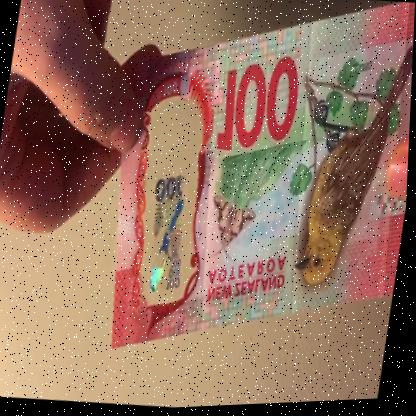100B: (138, 135, 205, 301)
